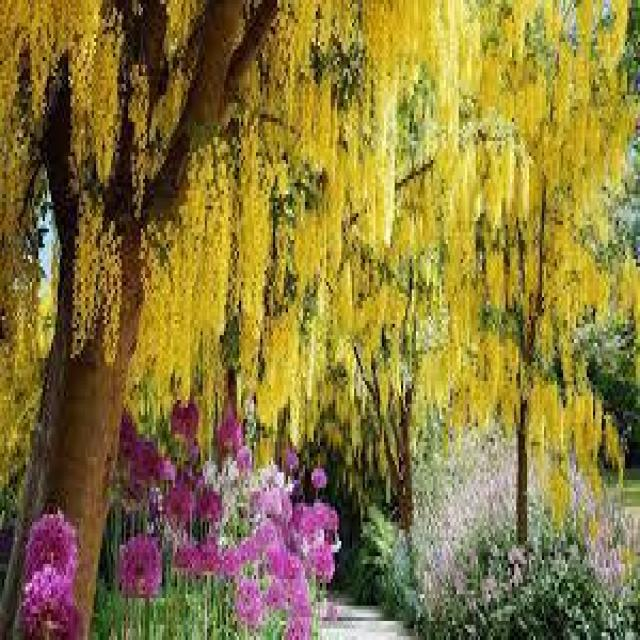other: (2, 5, 631, 479)
